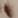cockroach: (5, 4, 12, 18)
